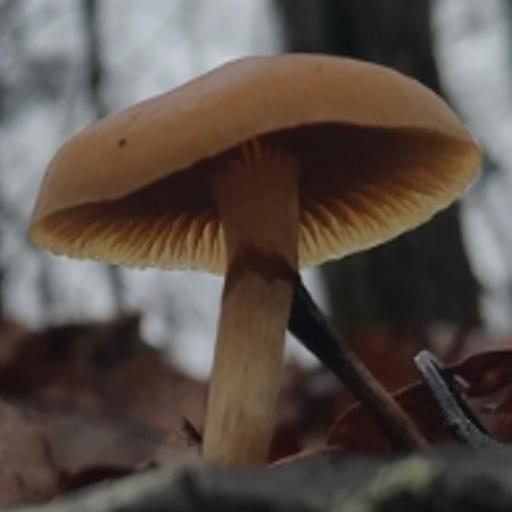mushroom: (22, 45, 489, 378)
